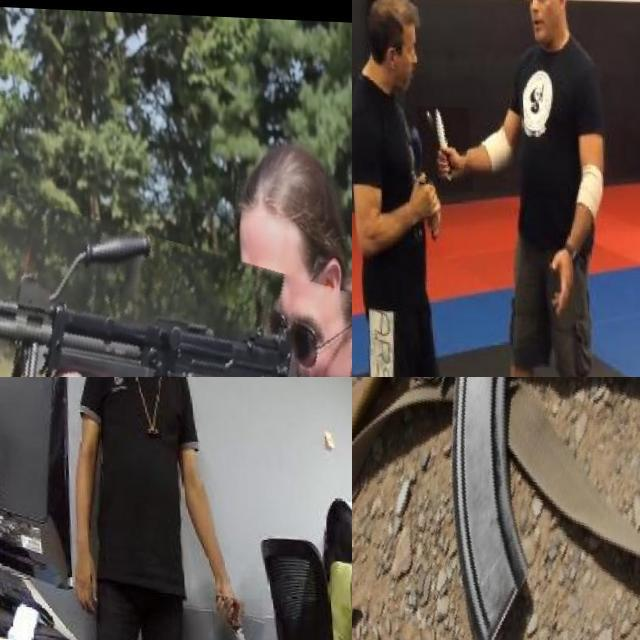-: (414, 102, 469, 188), (204, 594, 259, 640)
gun-knife-thesis - v11 Yolov5 augmented: (352, 377, 640, 640), (0, 198, 352, 377)
